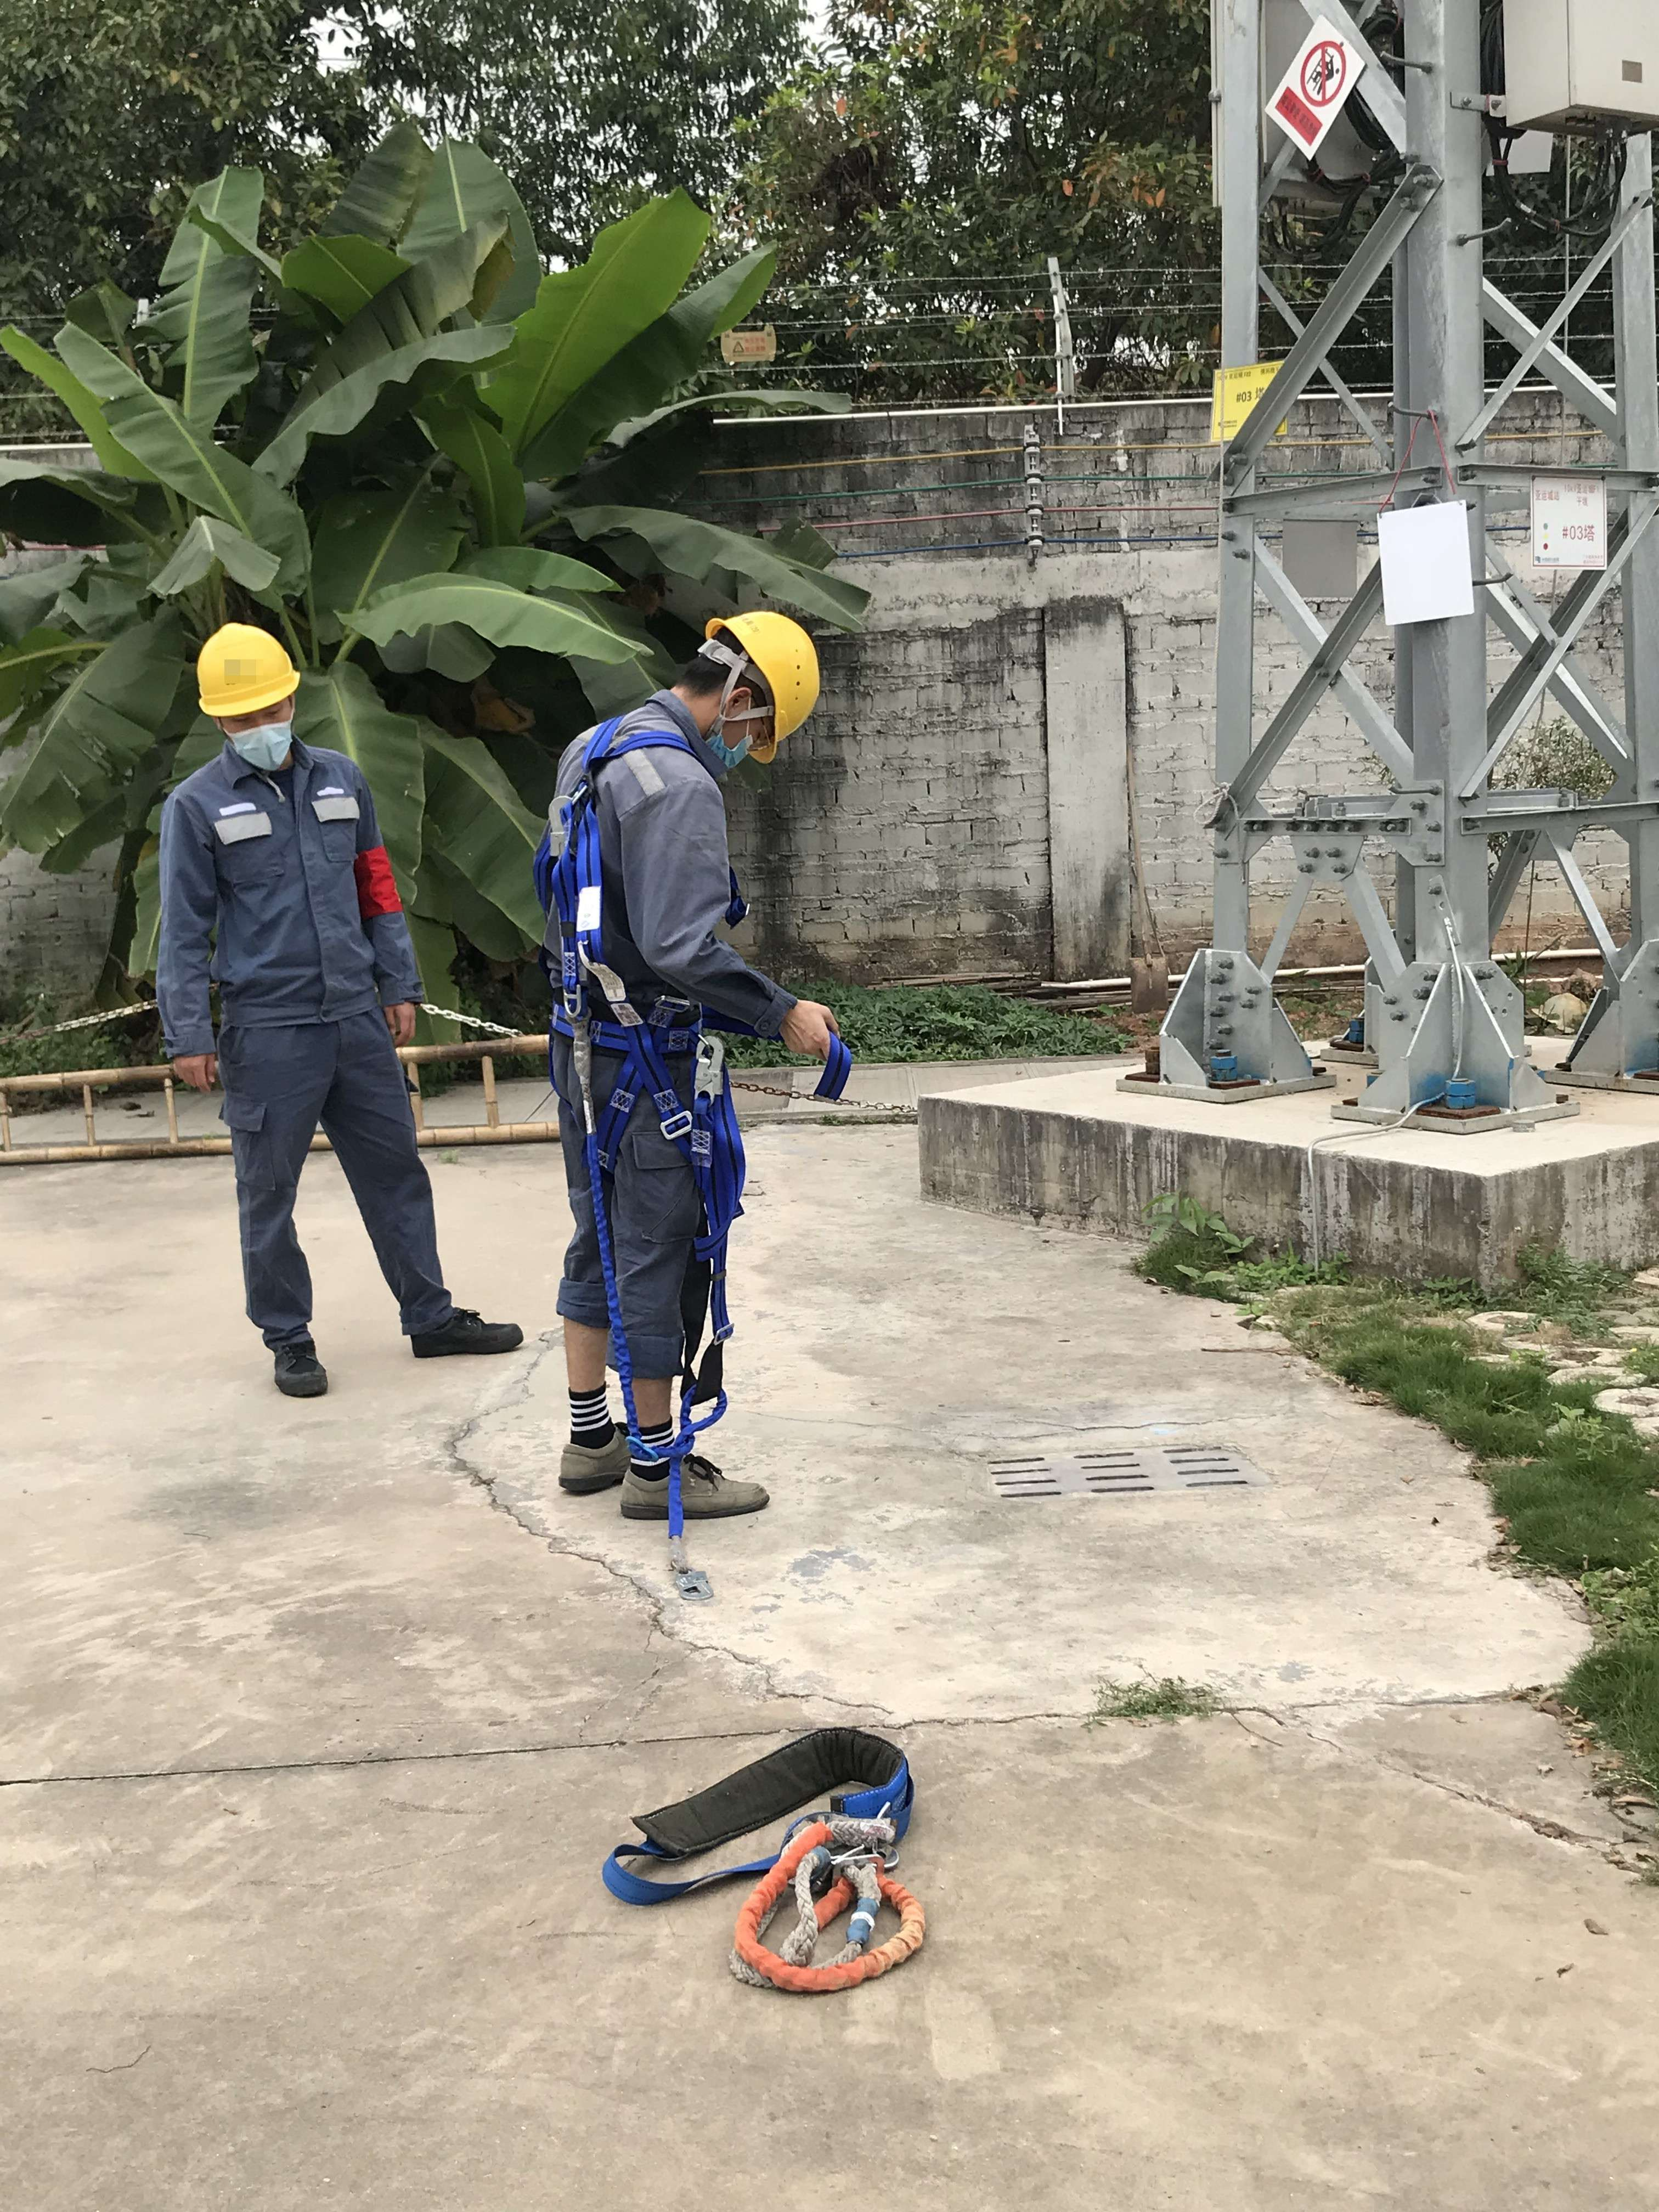downsuit: (221, 1033, 451, 1332), (552, 1047, 720, 1360)
upsuit: (155, 740, 413, 1024), (542, 709, 756, 1029)
wrongbottom: (551, 1271, 626, 1423)
